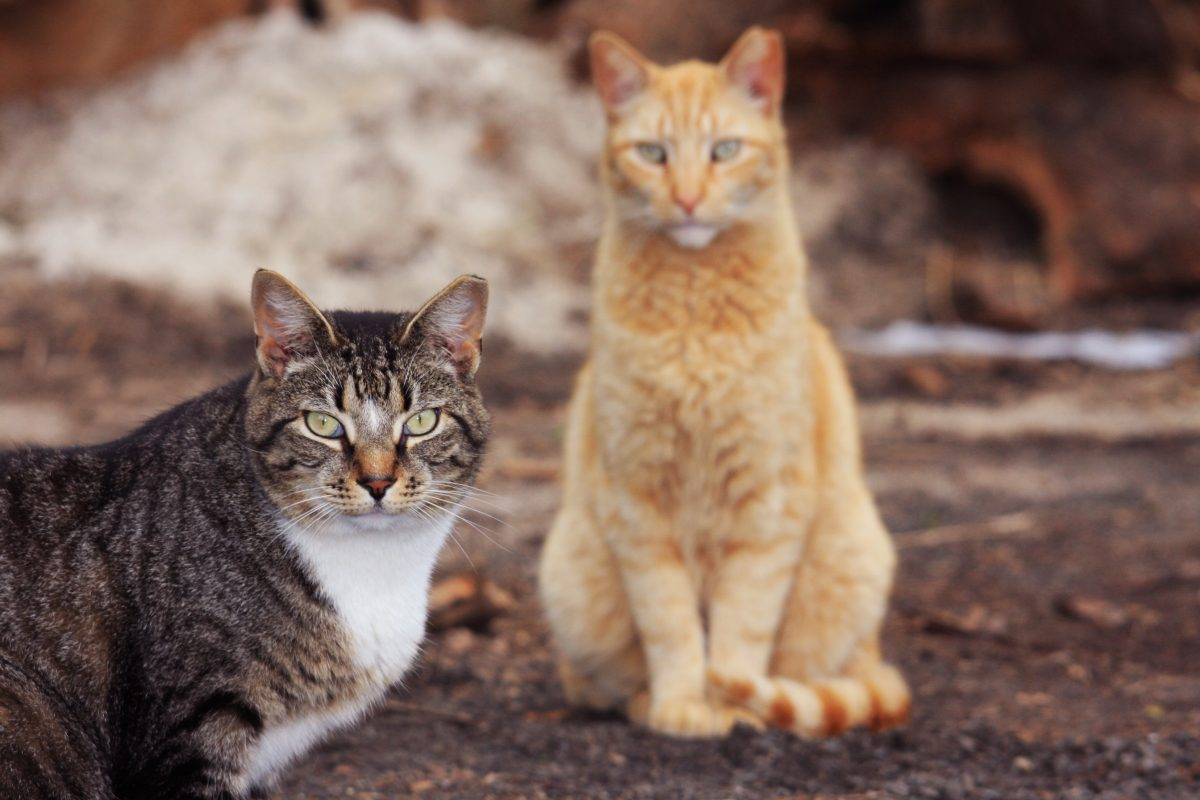Cat: (519, 2, 920, 772), (1, 255, 511, 784)
